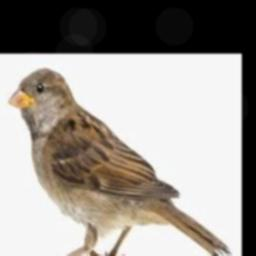Sparrow: (9, 68, 231, 256)
